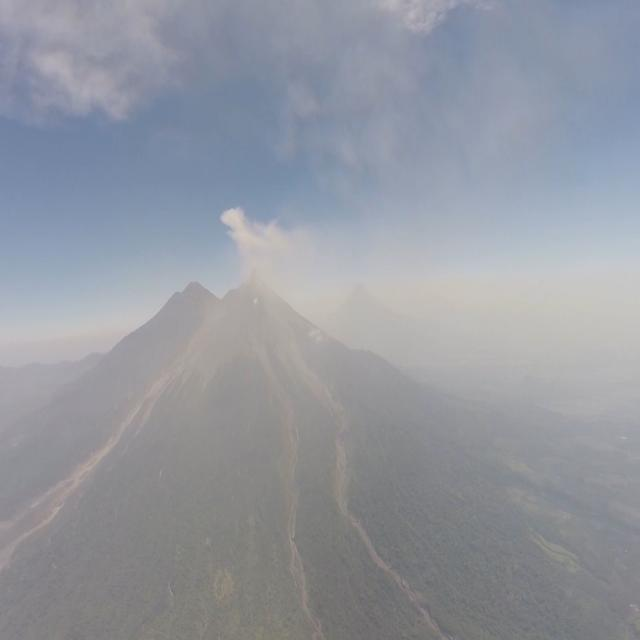Plume: (219, 202, 309, 279)
Summit: (234, 271, 282, 297)
